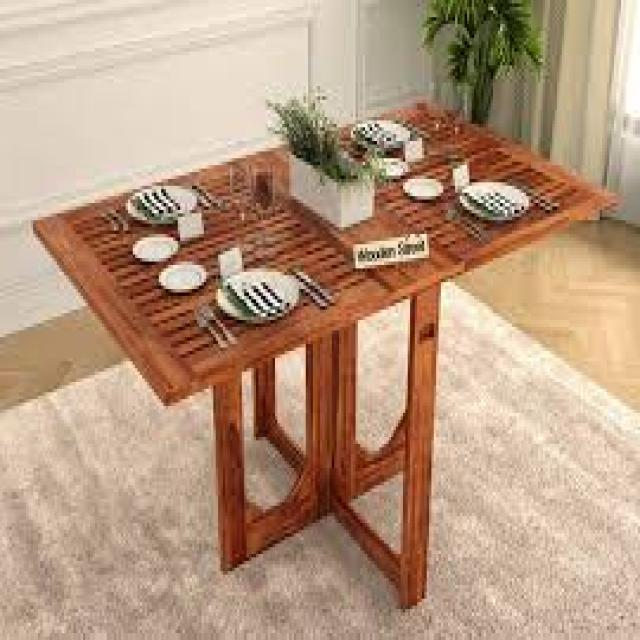obstacle: (38, 120, 624, 593)
